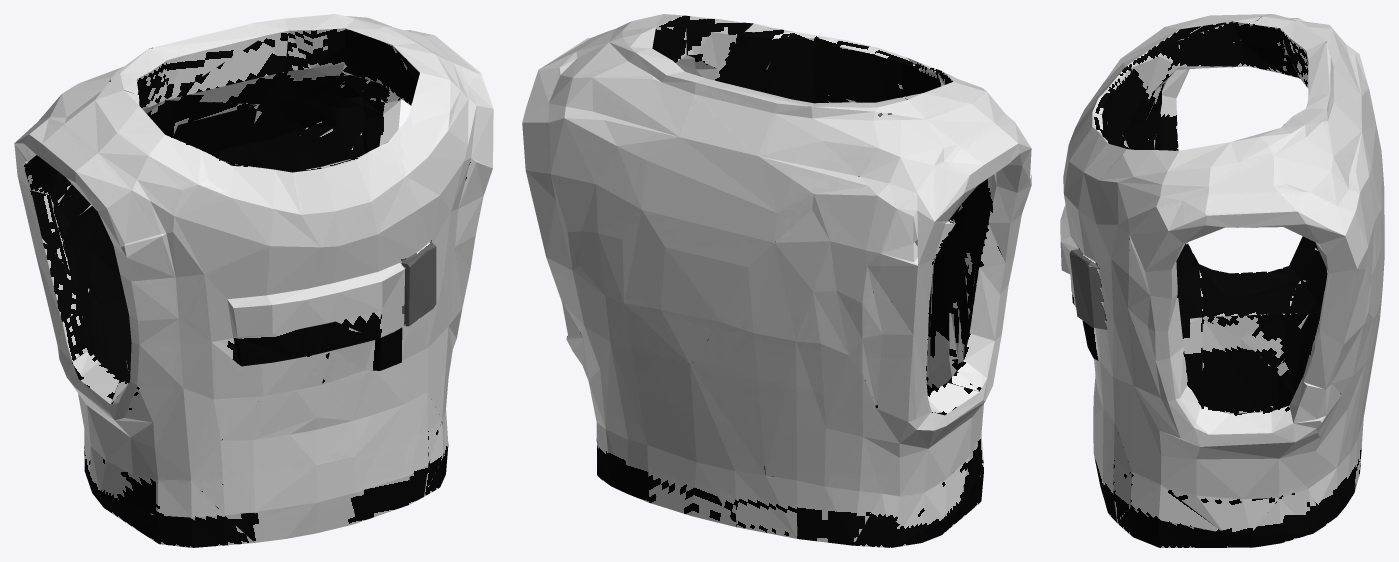
The picture shows the model from 3 angles, left to right: view 1: azimuth 30°, elevation 25°; view 2: azimuth 150°, elevation 25°; view 3: azimuth 270°, elevation 25°; orthographic projection. The views are drawn at different scales.
Visible parts, largest first — view 1: OBJ020; view 2: OBJ020; view 3: OBJ020.
Part boxes in pixels (left/top/right/bottom): OBJ020: left=14, top=14, right=493, bottom=547; OBJ020: left=522, top=14, right=1031, bottom=547; OBJ020: left=1060, top=14, right=1384, bottom=547.
Bounding box in the file's own units: 0.2427 × 0.2373 × 0.1716.
1 material, 1 textured.
